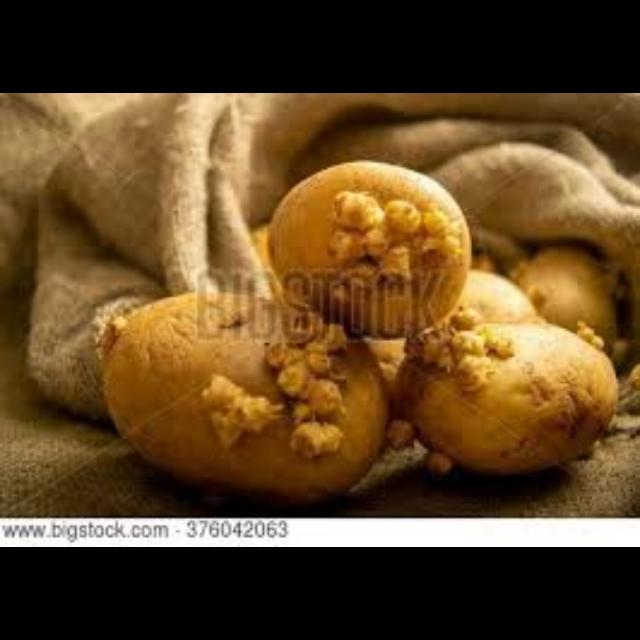Sprouted potato: (95, 283, 398, 503), (393, 317, 624, 483), (272, 155, 466, 329)
